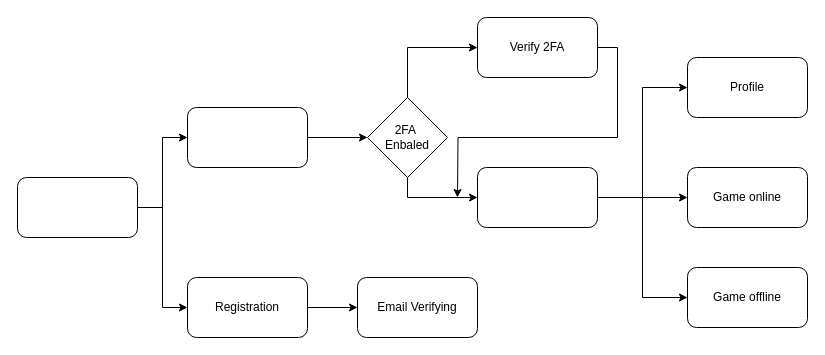
This 825x355 diagram has some shape labels left out. Here are the shapes that lost their labels. From the top down, the centre of each, then its label:
At point (247, 137): "Login".
At point (77, 207): "Dashboard Game offline-single (without registration)".
At point (537, 197): "Get accses, refresh token".
